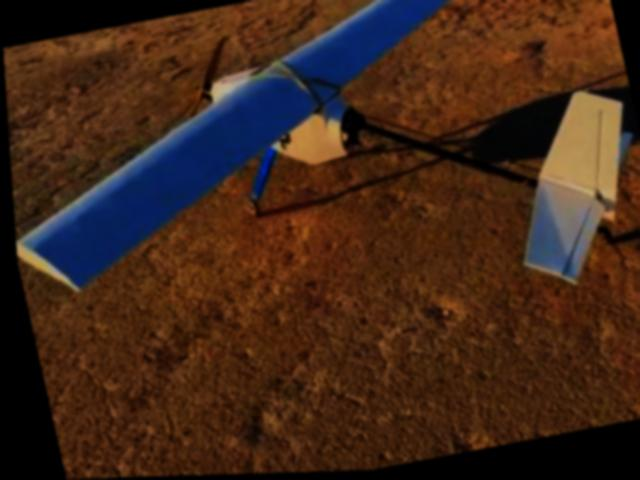uav: (0, 0, 640, 384)
